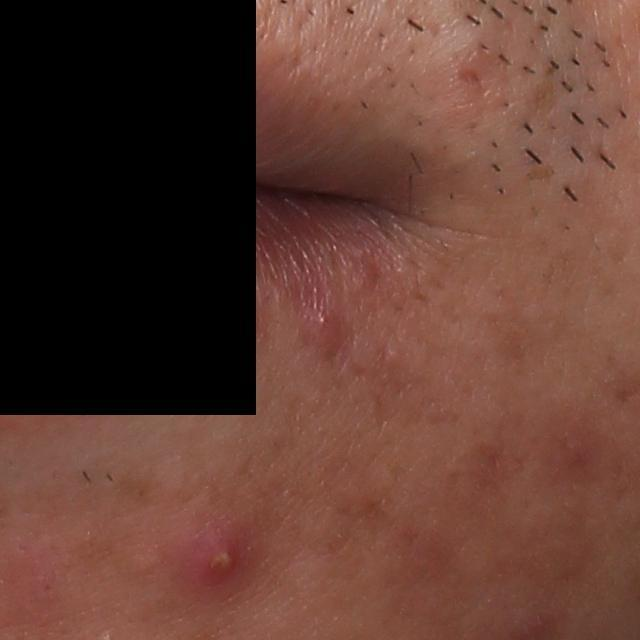papule: (300, 301, 346, 363)
pustule: (183, 523, 258, 599)
